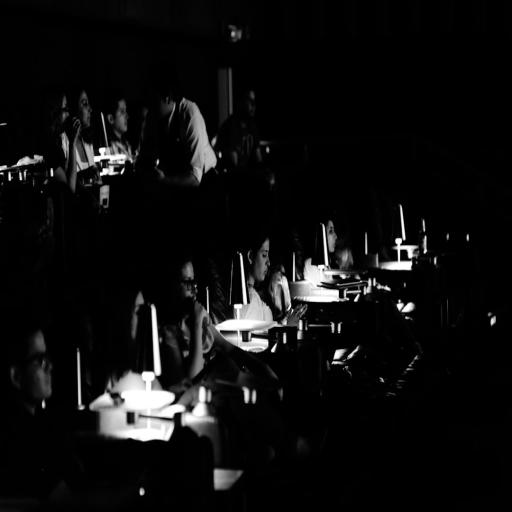face: (17, 331, 52, 403), (248, 239, 270, 282), (177, 262, 197, 303), (109, 99, 128, 133), (77, 91, 91, 128), (57, 95, 69, 133), (326, 221, 337, 253), (244, 91, 255, 118)
